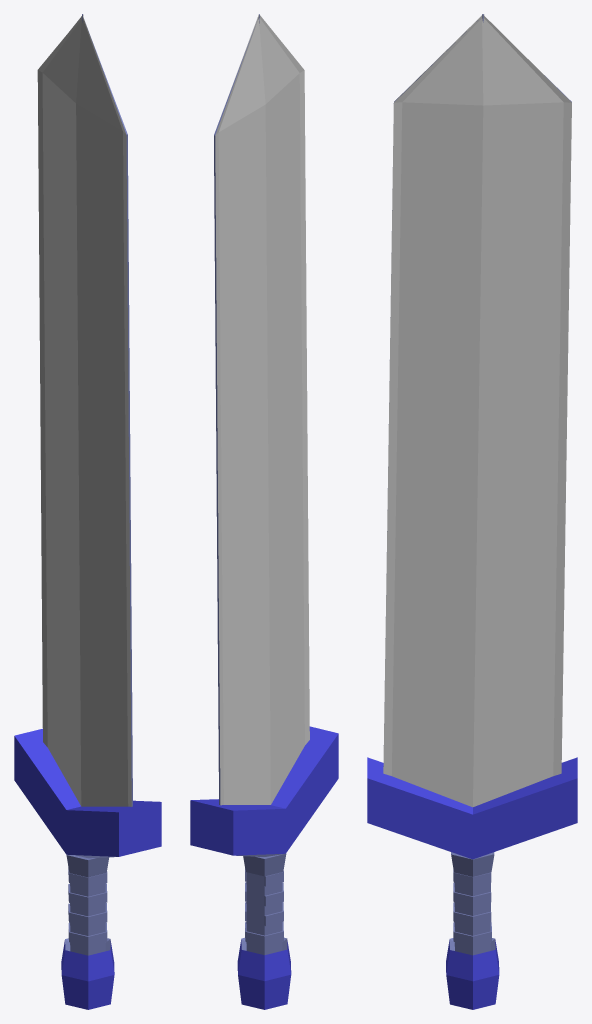
Rendered from sword_item.glb.
3 renders of one model, left to right at view 1: azimuth 30°, elevation 25°; view 2: azimuth 150°, elevation 25°; view 3: azimuth 270°, elevation 25°, orthographic.
Visible parts, largest first — view 1: Cube; view 2: Cube; view 3: Cube.
Boxes of the visible parts, <box> form: Cube: <box>14,14,161,1009</box>; Cube: <box>190,14,338,1009</box>; Cube: <box>367,14,577,1009</box>.
Bounding box in the file's own units: 2.48 × 43.92 × 8.5.
